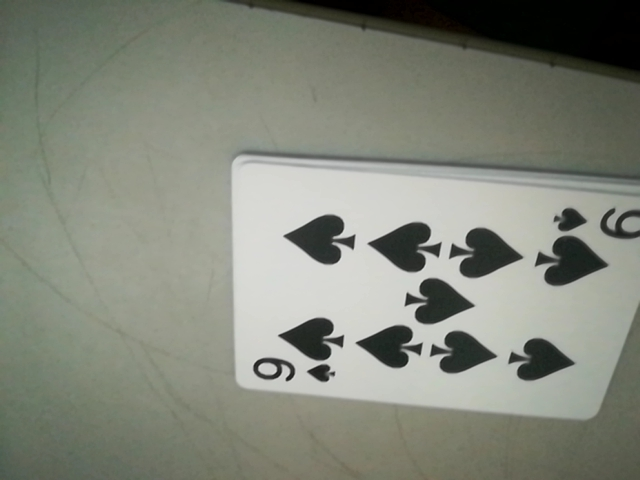ht 9: (244, 354, 344, 393)
